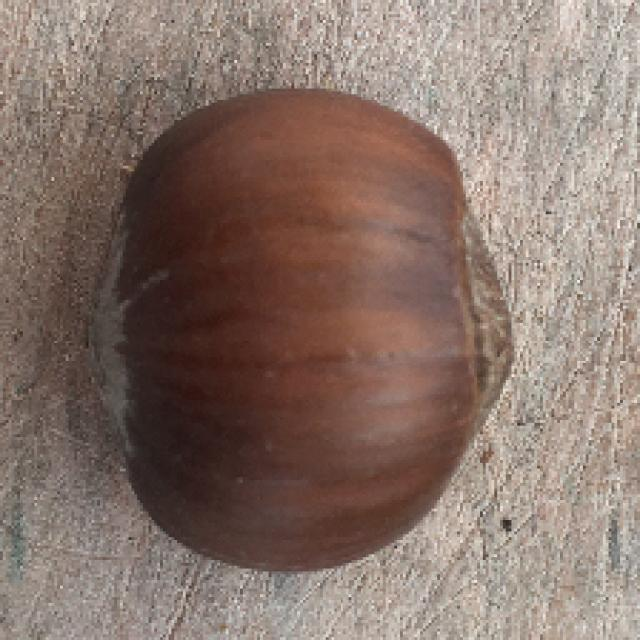qualityHazelnut: (70, 78, 528, 580)
